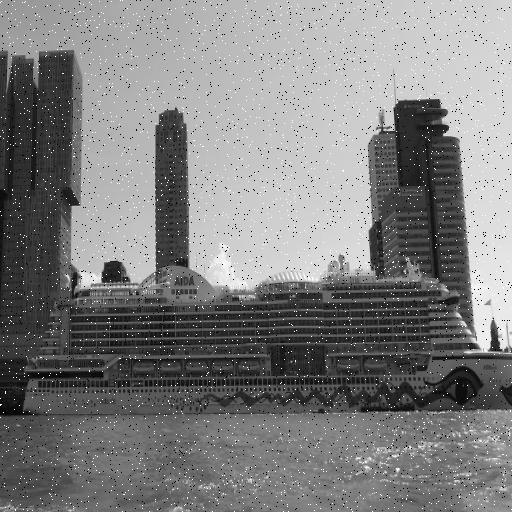cruises: (19, 254, 512, 423)
